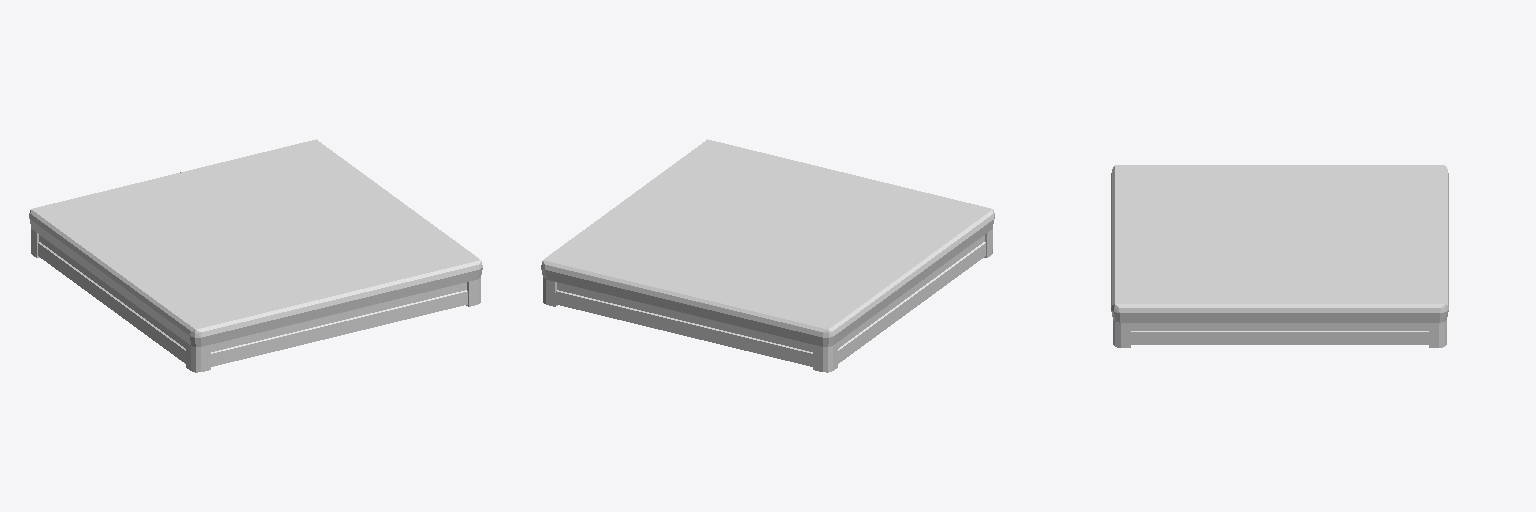
The model's file is stg600_obj_footholdA.obj.
The picture shows the model from 3 angles: view 1: azimuth 30°, elevation 25°; view 2: azimuth 150°, elevation 25°; view 3: azimuth 270°, elevation 25°; orthographic projection.
Parts seen in each view (by area): view 1: polygon3, polygon0, polygon1, polygon2; view 2: polygon3, polygon0, polygon1, polygon2; view 3: polygon3, polygon0, polygon1, polygon2.
Part boxes in pixels (left/top/right/bottom): polygon3: left=52, top=149, right=458, bottom=320; polygon0: left=29, top=139, right=482, bottom=372; polygon1: left=38, top=242, right=467, bottom=366; polygon2: left=39, top=235, right=466, bottom=351; polygon3: left=565, top=149, right=971, bottom=320; polygon0: left=541, top=139, right=994, bottom=372; polygon1: left=556, top=242, right=985, bottom=366; polygon2: left=557, top=235, right=984, bottom=351; polygon3: left=1131, top=172, right=1428, bottom=297; polygon0: left=1111, top=165, right=1448, bottom=347; polygon1: left=1131, top=331, right=1428, bottom=344; polygon2: left=1131, top=323, right=1428, bottom=330.
Size of the model in its own units: 50.01 by 7.02 by 50.01.